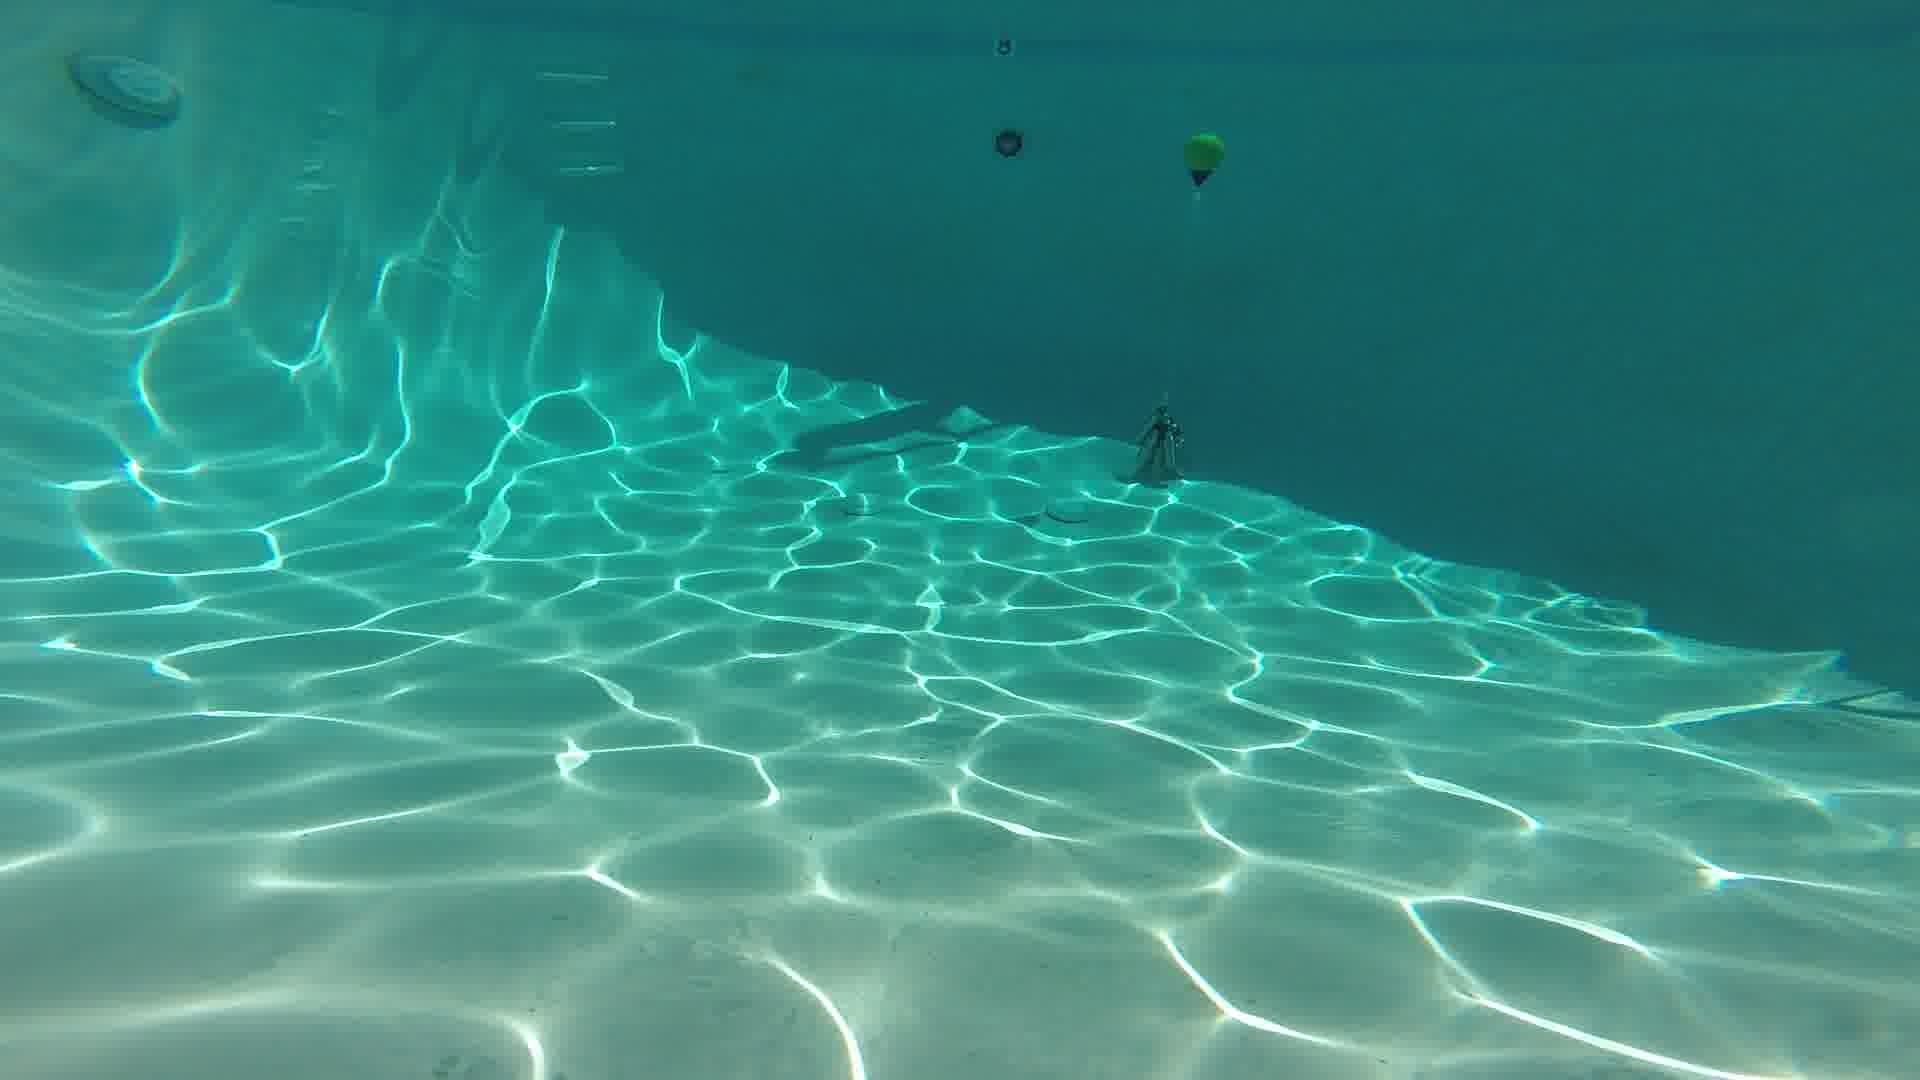yellow_buoy: (1184, 133, 1222, 189)
